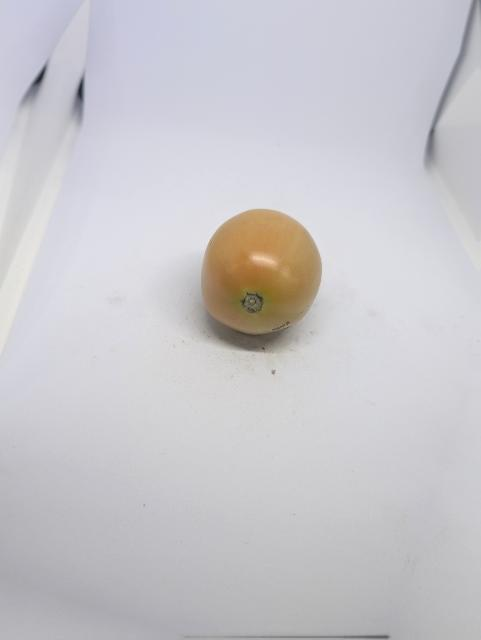turning: (189, 202, 333, 345)
